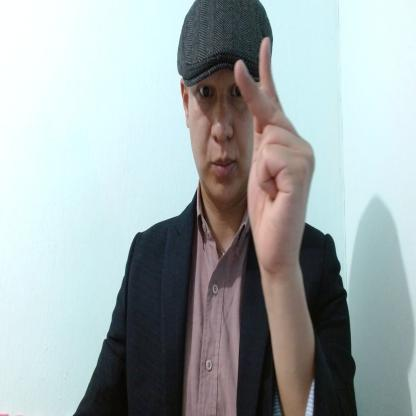P: (235, 34, 316, 280)
